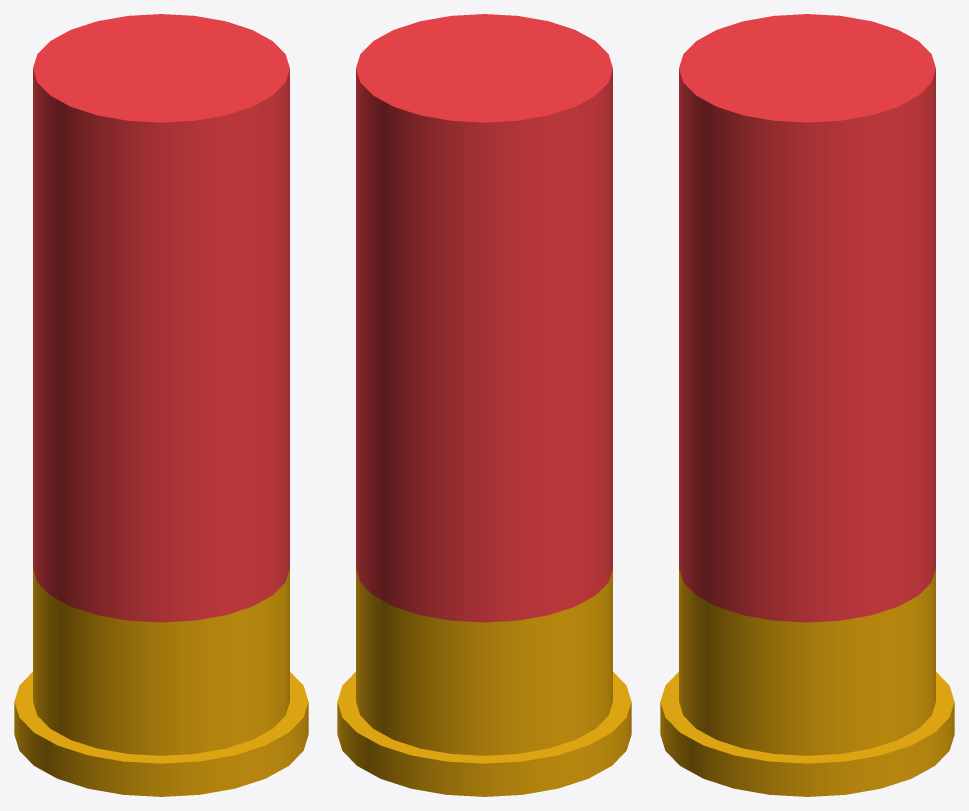
Rendered from ammo_shotgun.obj.
The picture shows the model from 3 angles, left to right: view 1: azimuth 30°, elevation 25°; view 2: azimuth 150°, elevation 25°; view 3: azimuth 270°, elevation 25°; orthographic projection.
Parts seen in each view (by area): view 1: ammo_shotgun; view 2: ammo_shotgun; view 3: ammo_shotgun.
Boxes of the visible parts, bbox=[...] form: ammo_shotgun: bbox=[14, 14, 308, 796]; ammo_shotgun: bbox=[337, 14, 631, 796]; ammo_shotgun: bbox=[660, 14, 954, 796].
Bounding box in the file's own units: 0.0306 × 0.0766 × 0.0306.
